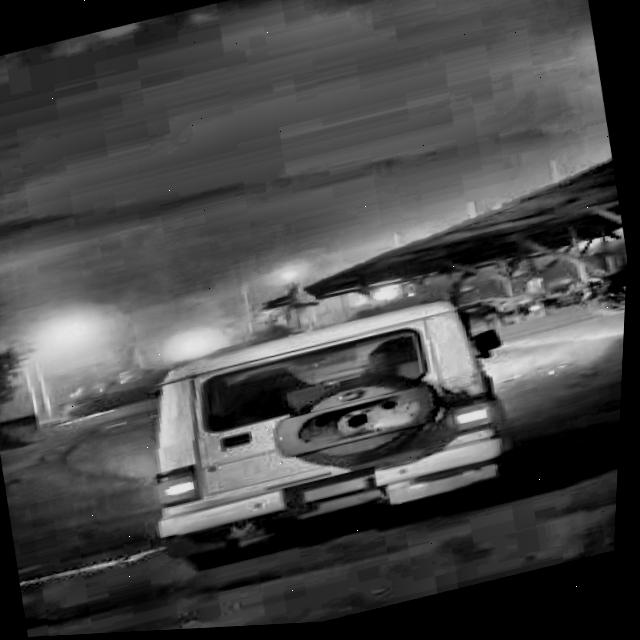light_vehicle: (123, 291, 544, 574)
